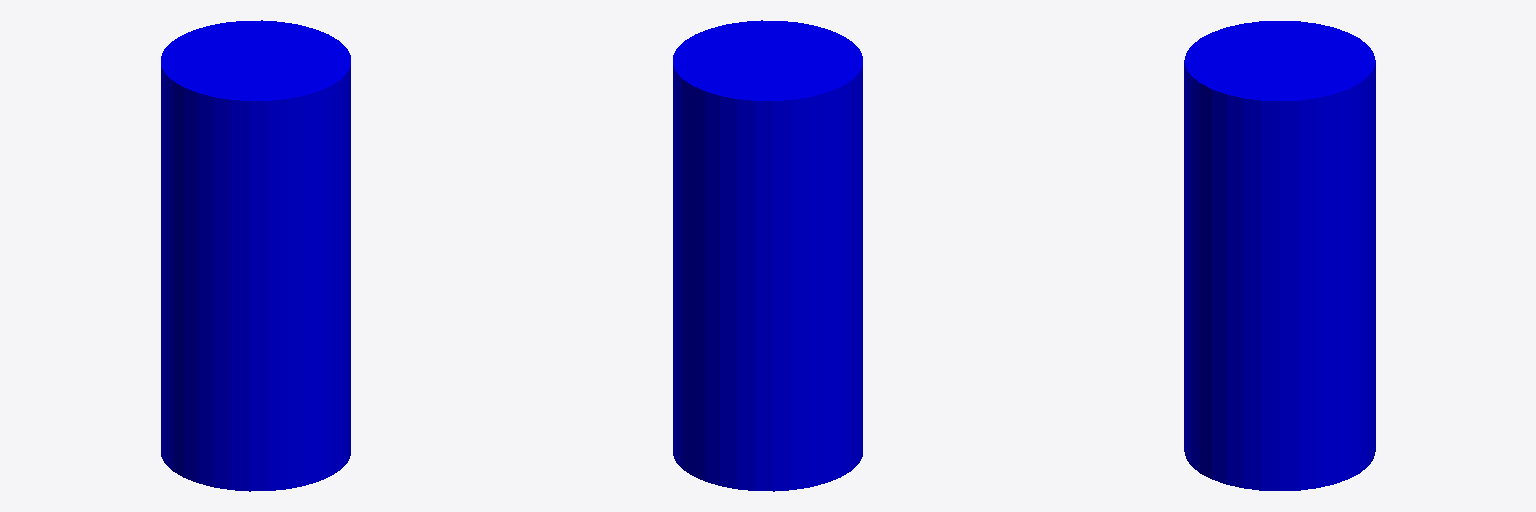
robot.urdf — my_robot:
<?xml version="1.0"?>
<robot name="my_robot">
  <link name="base_link">
    <visual>
      <geometry>
        <cylinder length="0.9" radius="0.2"/>
      </geometry>
      <material name="blue">
         <color rgba="0 0 1 1"/>
      </material>
    </visual>
  </link>
</robot>

--- What the picture shows (computed from the rendered views, not written in the file) ---
Views: 3 orthographic renders of the robot side by side, from view 1: azimuth 30°, elevation 25°; view 2: azimuth 150°, elevation 25°; view 3: azimuth 270°, elevation 25°.
Model my_robot with 1 links and 0 joints (none), rooted at base_link, posed every joint at zero.
Links seen in each view (by area): view 1: base_link; view 2: base_link; view 3: base_link.
Link boxes in pixels (bbox=[...]): base_link: bbox=[161, 20, 350, 491]; base_link: bbox=[673, 20, 862, 491]; base_link: bbox=[1184, 21, 1375, 490].
Size in the robot's own frame: 0.4 by 0.4 by 0.9 metres.
Geometry: primitives only (box / cylinder / sphere), no mesh files.